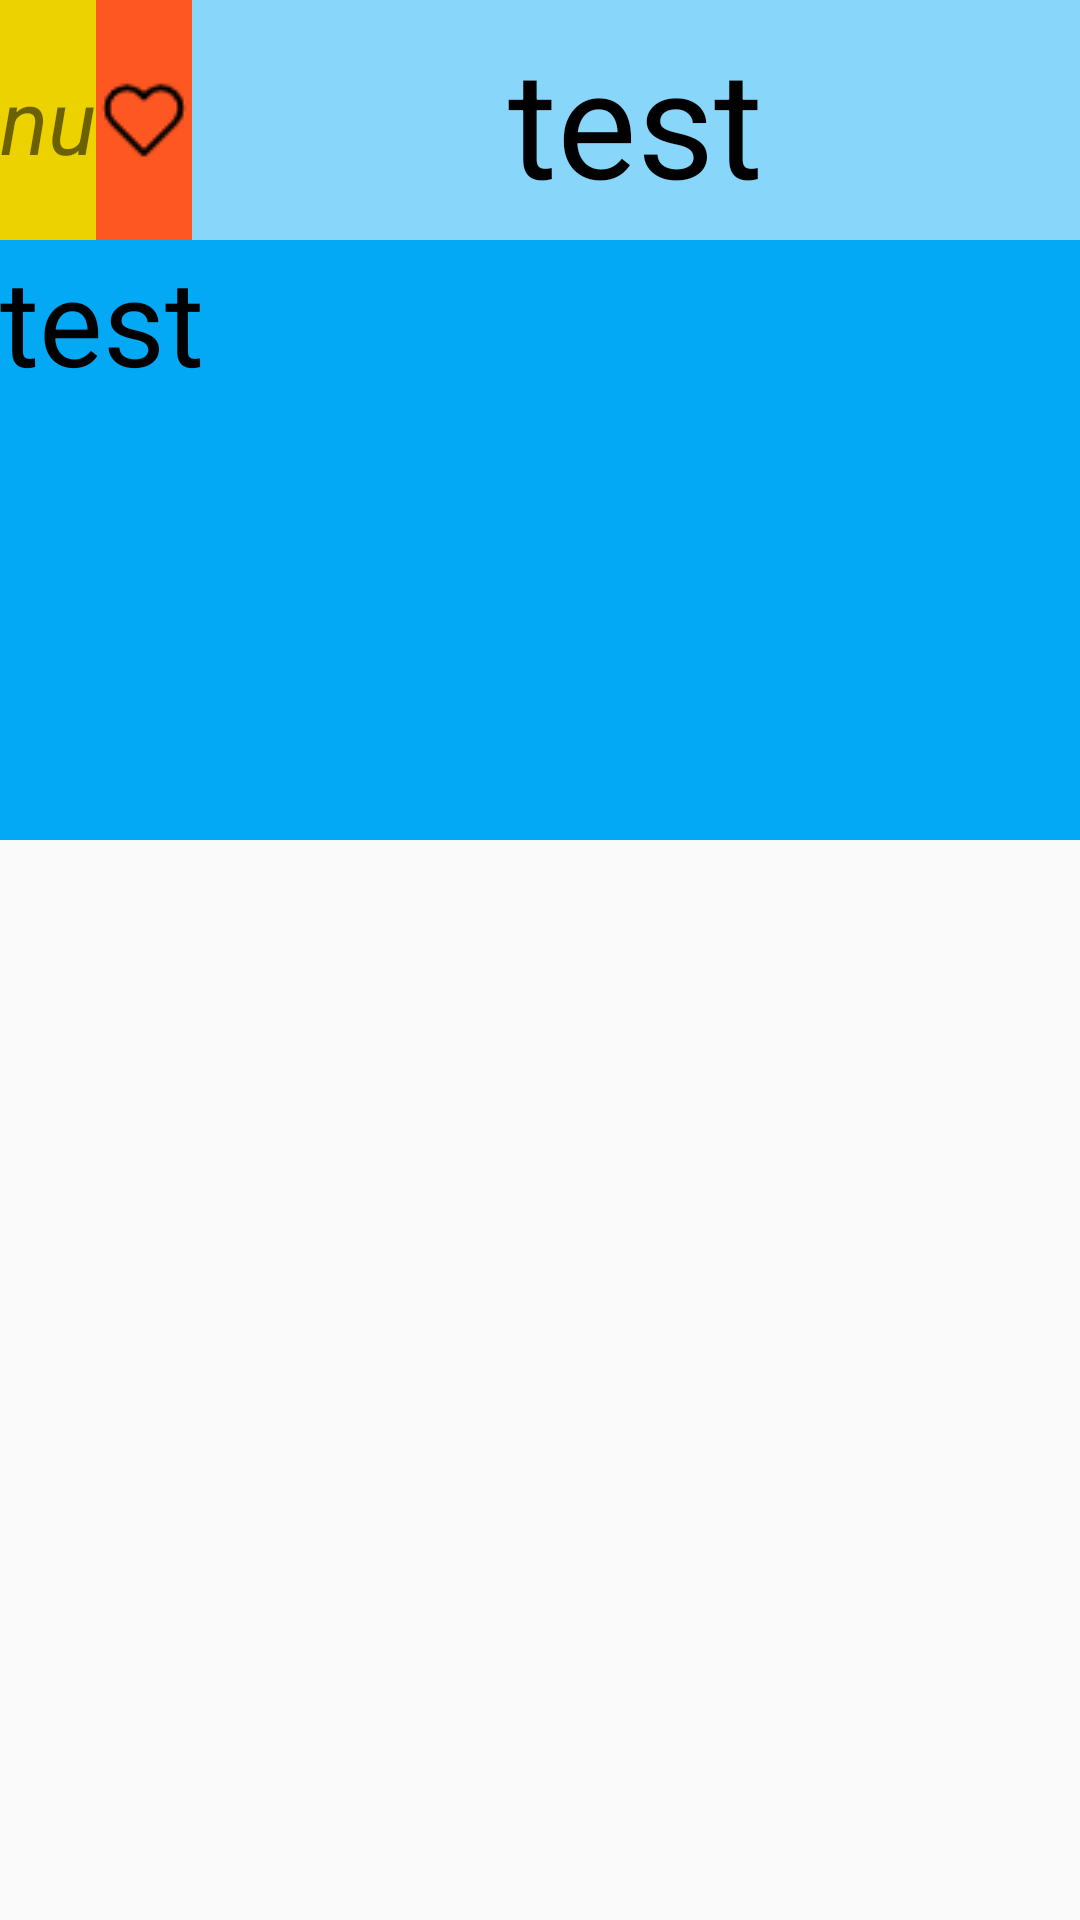

Where icons sit on this 1080*1920 app screen, as box(x1, y1, x2, y2):
not like: box(102, 83, 186, 157)
